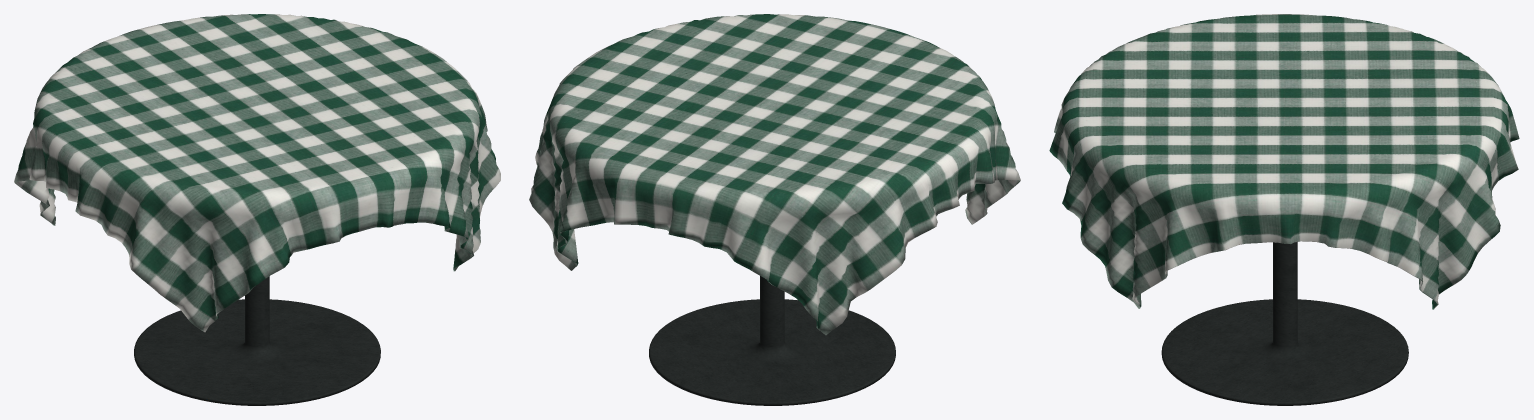
The model's file is dinner-table.glb.
3 views of the same model, side by side, from view 1: azimuth 30°, elevation 25°; view 2: azimuth 150°, elevation 25°; view 3: azimuth 270°, elevation 25° (orthographic).
Visible parts, largest first — view 1: Table; view 2: Table; view 3: Table.
Part boxes in pixels (box(x1,y1,x2,y2)): Table: box(14, 14, 500, 405); Table: box(529, 14, 1020, 405); Table: box(1049, 14, 1519, 405).
Size of the model in its own units: 1.32 by 0.7853 by 1.33.
Materials: 1 (1 with a texture image).
